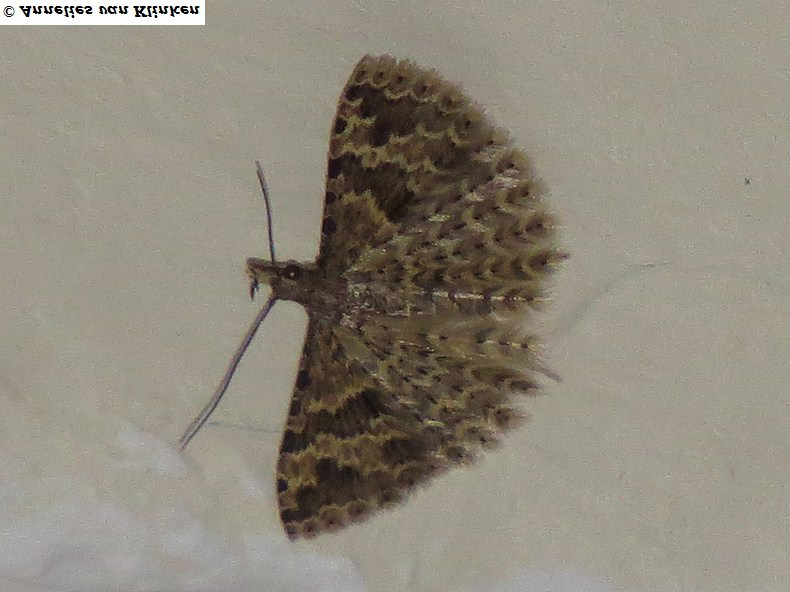Alucitidae: (174, 51, 570, 537)
moth: (176, 53, 572, 539)
